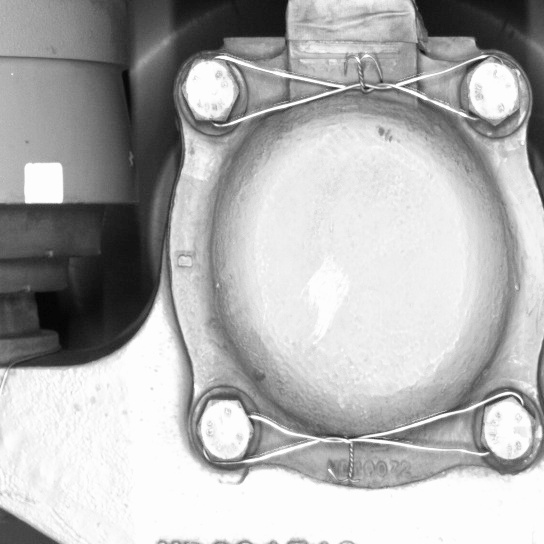IronWire: (175, 48, 529, 137), (188, 387, 541, 476)
Screw: (451, 48, 528, 135), (174, 48, 245, 137), (189, 387, 261, 474), (470, 386, 541, 468)
